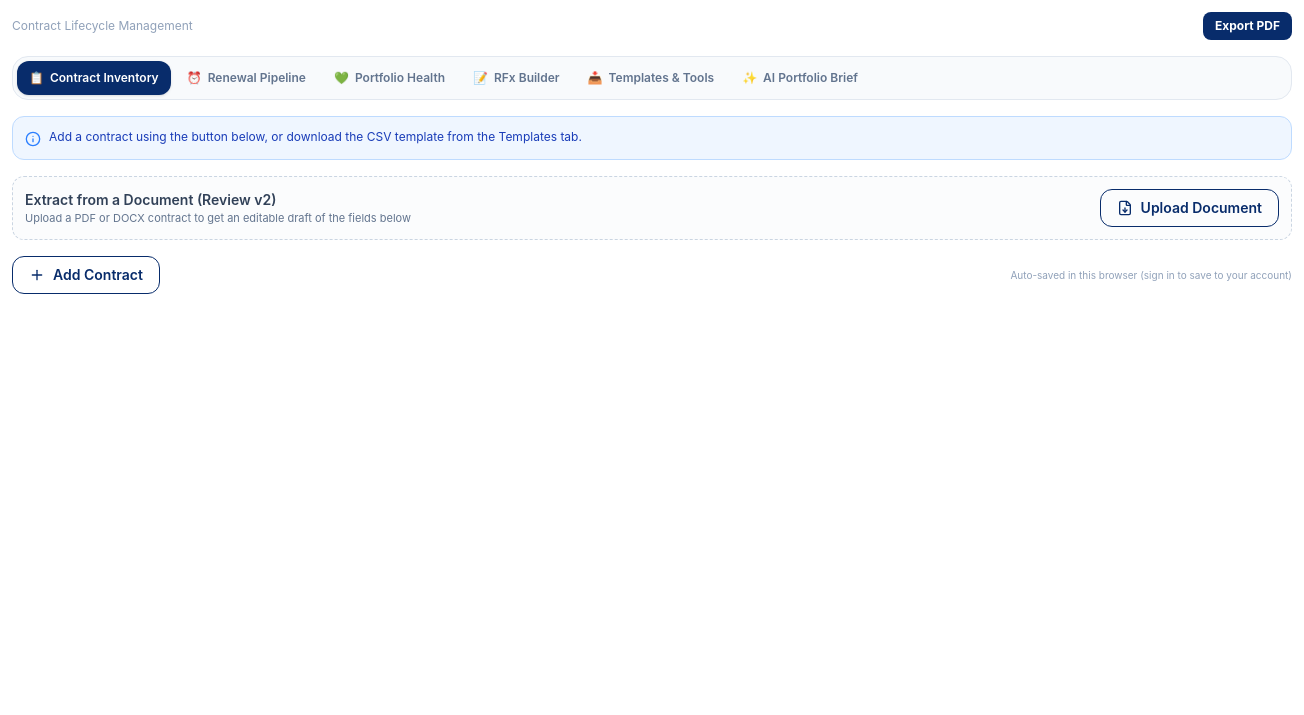
Scenario: RFx Builder tab (registry #394) › renders the RFx Builder tab and its three selection checkboxes
The width and height of the screenshot is (1304, 715).
Step 1. Click the tab "📝 RFx Builder" → (516, 78), box x1=461 y1=61 x2=572 y2=95
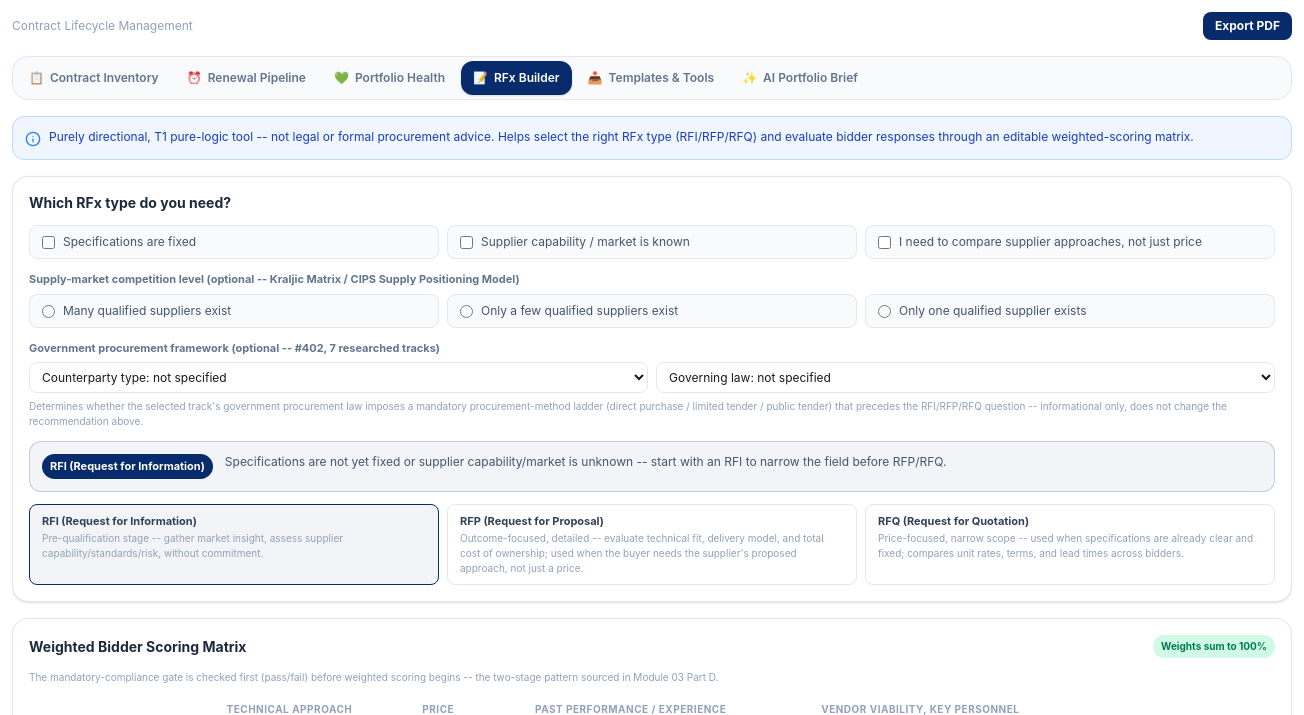
Check: the text "Which RFx type do you need?" is shown, box x1=29 y1=194 x2=231 y2=211
Check: the text "Specifications are fixed" is shown, box x1=29 y1=225 x2=439 y2=259
Check: the text "Supplier capability / market is known" is shown, box x1=447 y1=225 x2=857 y2=259
